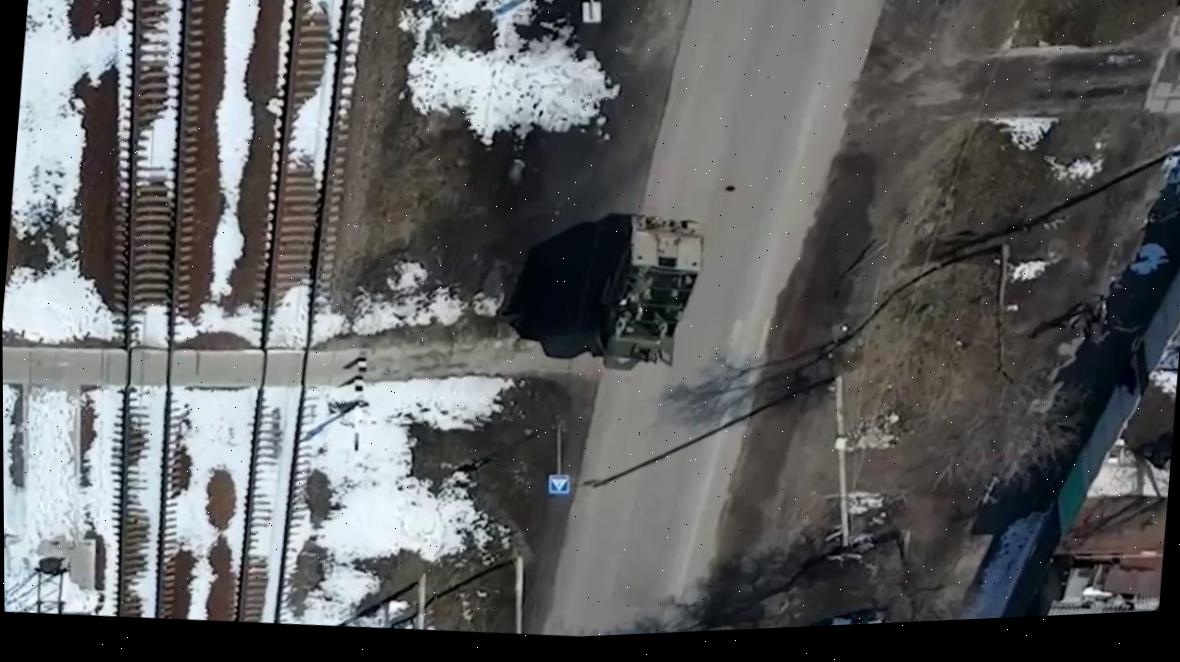truck: (589, 207, 706, 378)
